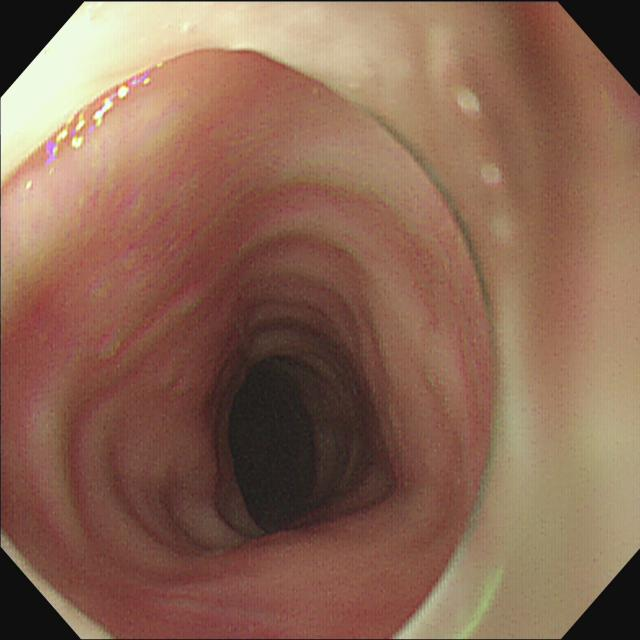E: (218, 354, 332, 537)
U: (25, 62, 166, 195)
